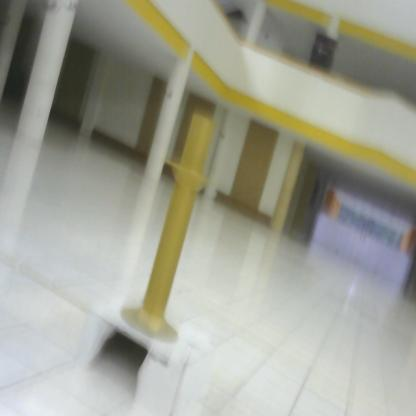pole: (116, 108, 230, 351)
